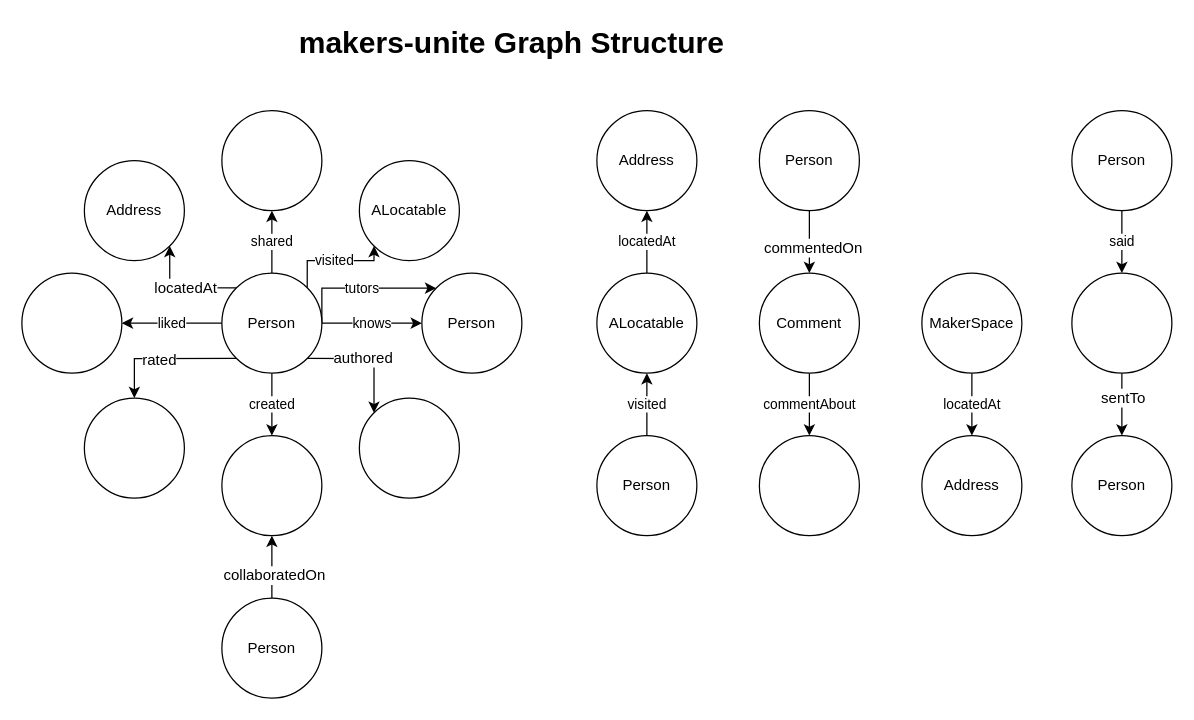
This 1194x720 diagram has some shape labels left out. Each missing label, with the centre of its shape:
ACommentable: the point at 808,485
ALikable: the point at 71,322
ARateable: the point at 133,447
Article: the point at 408,447
ASharable: the point at 271,160
Message: the point at 1121,322
Project: the point at 271,485
